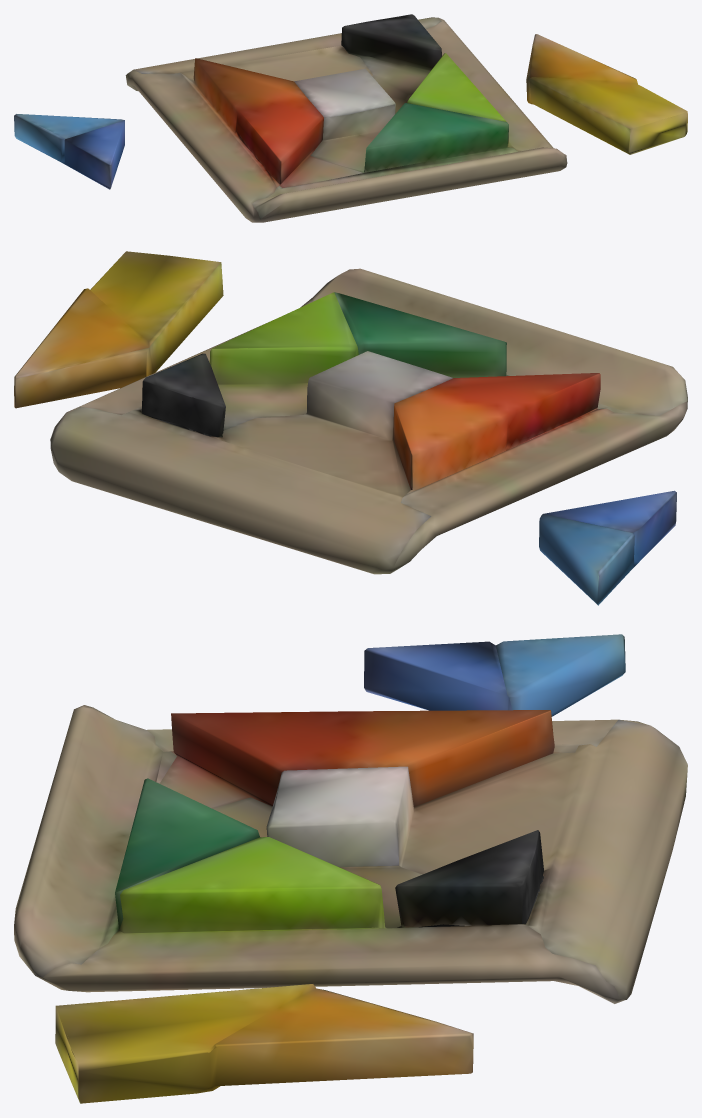
The model's file is TWISTED_PUZZLE_twb4AyFtu8Q-medium.glb.
The picture shows the model from 3 angles, top to bottom: view 1: azimuth 30°, elevation 25°; view 2: azimuth 150°, elevation 25°; view 3: azimuth 270°, elevation 25°; orthographic projection. The views are drawn at different scales.
Parts seen in each view (by area): view 1: TWISTED_PUZZLE_twb4AyFtu8Q; view 2: TWISTED_PUZZLE_twb4AyFtu8Q; view 3: TWISTED_PUZZLE_twb4AyFtu8Q.
Boxes of the visible parts, bbox=[...] form: TWISTED_PUZZLE_twb4AyFtu8Q: bbox=[14, 14, 687, 222]; TWISTED_PUZZLE_twb4AyFtu8Q: bbox=[14, 251, 687, 605]; TWISTED_PUZZLE_twb4AyFtu8Q: bbox=[14, 634, 687, 1103].
Size of the model in its own units: 0.3021 by 0.035 by 0.2034.
Materials: 1 (1 with a texture image).
